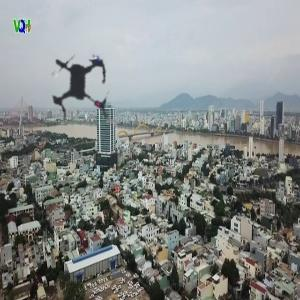drone: (1, 10, 154, 163)
